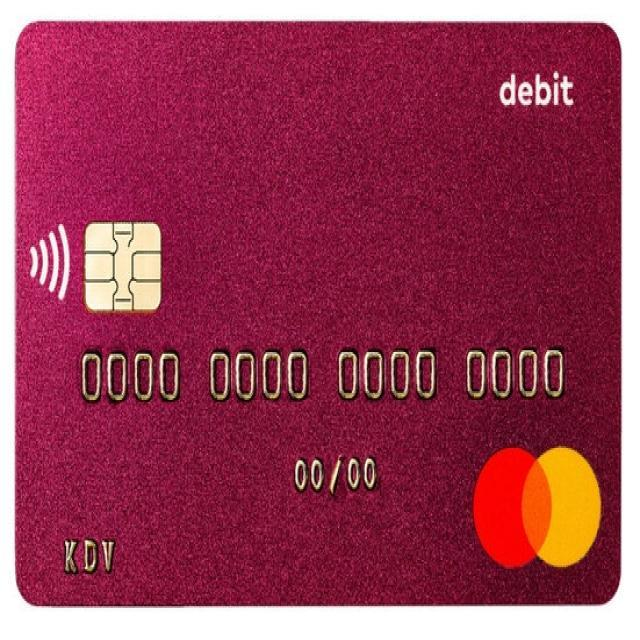payment_card: (13, 20, 623, 605)
